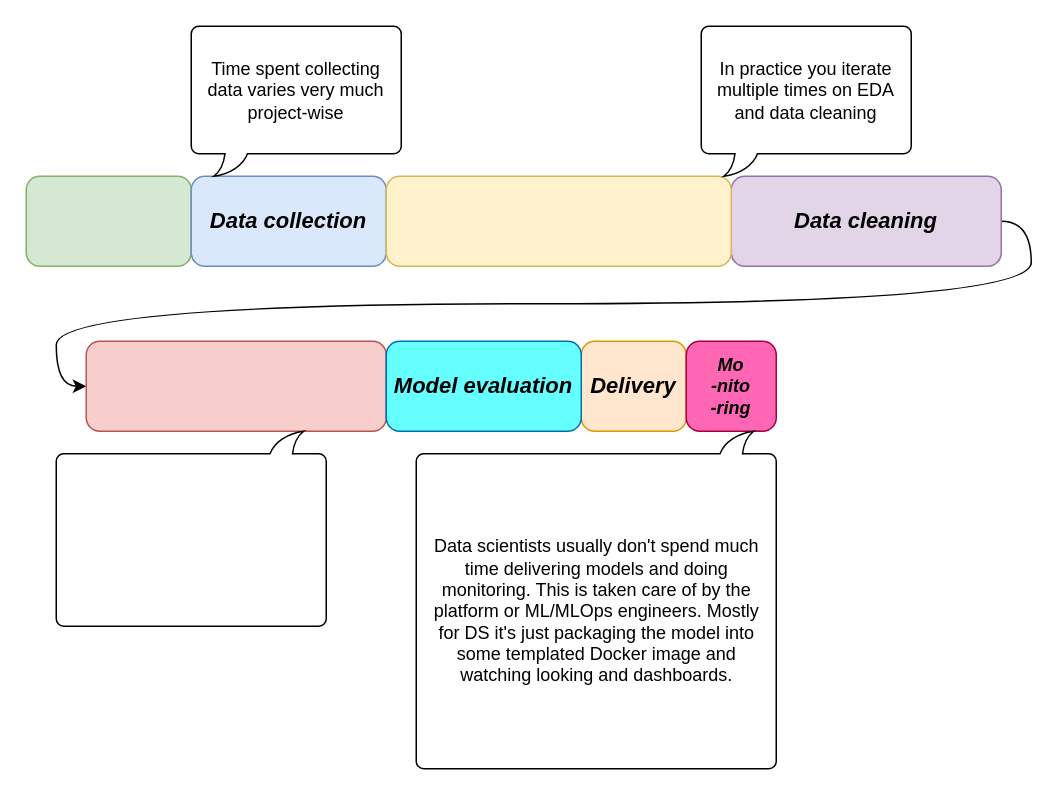
Image size: 1058x795. Some labels were removed from this diagram. Each missing label, with the centre of its shape:
Business understanding: the point at 108,220
Exploratory data analysis: the point at 558,220
For tabular and time-series data also includes feature engineering: the point at 190,528
Model creation: the point at 235,385
